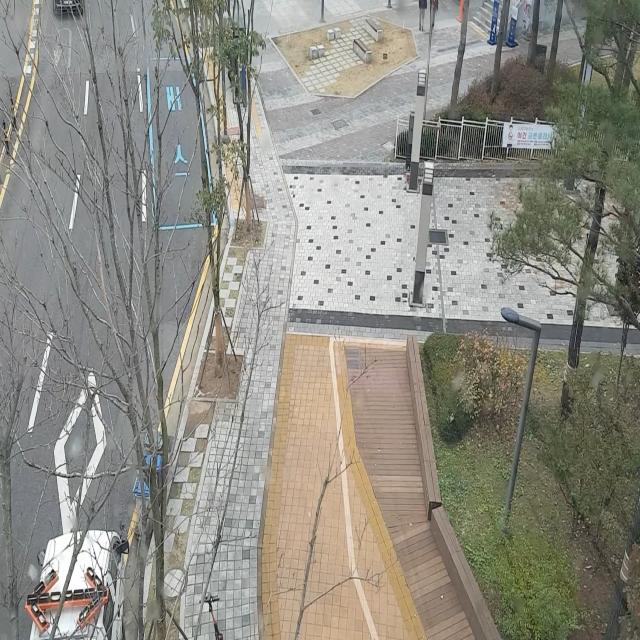Truck: (22, 503, 144, 640)
